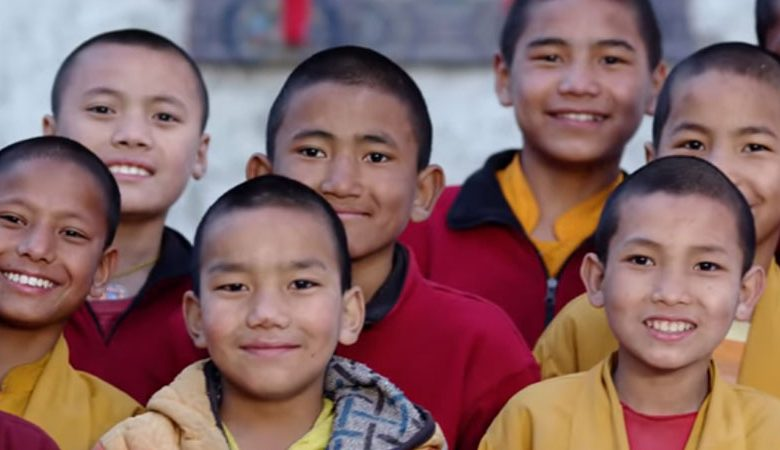human: (234, 40, 546, 436), (94, 171, 459, 450), (475, 149, 780, 450), (537, 36, 780, 382), (417, 1, 678, 304), (26, 18, 218, 369), (1, 130, 147, 450)
